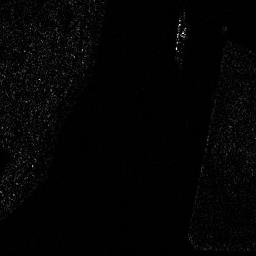ship: (173, 14, 188, 54)
